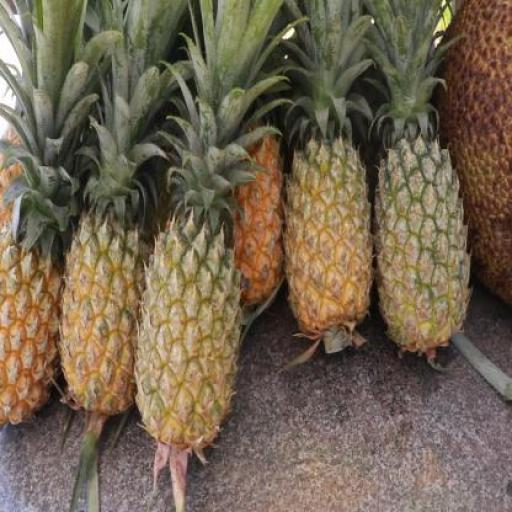------------------------------: (137, 222, 240, 445)
Pineapple - v8 v1: (62, 224, 155, 422), (285, 143, 371, 339), (0, 227, 66, 429)
